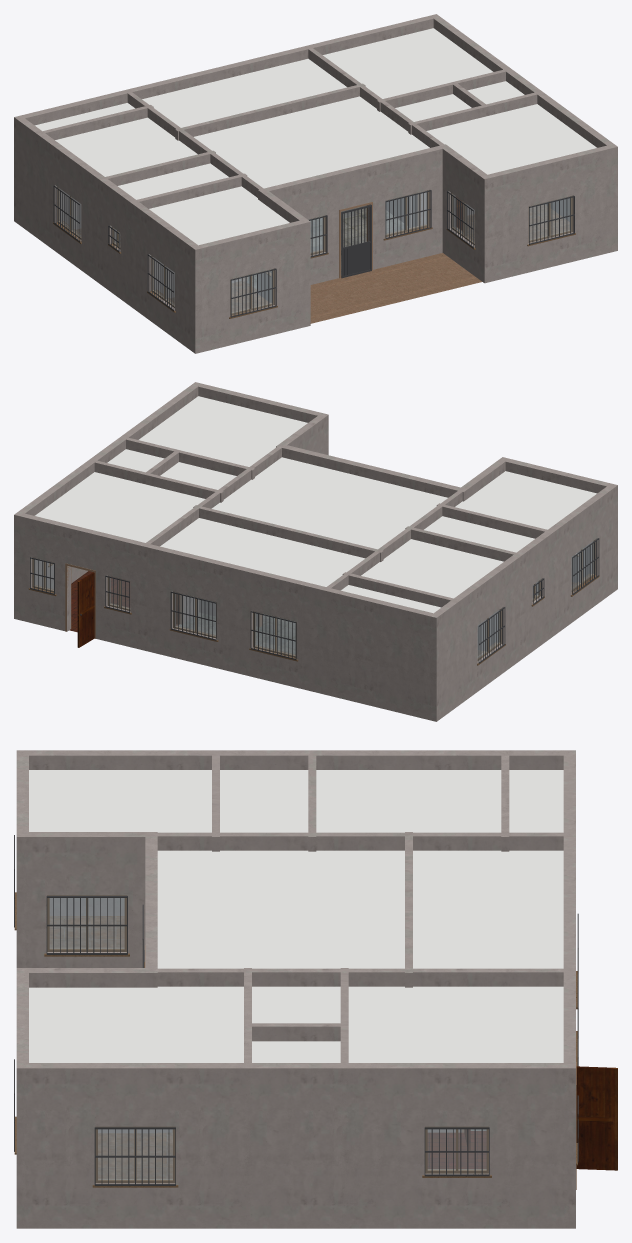
File: bungalow_interior.glb
3 renders of one model, top to bottom at view 1: azimuth 30°, elevation 25°; view 2: azimuth 150°, elevation 25°; view 3: azimuth 270°, elevation 25°, orthographic. The views are drawn at different scales.
Parts seen in each view (by area): view 1: bungalow_interior_static, ceiling_mesh, door_f0_living_veranda_security_mesh; view 2: bungalow_interior_static, ceiling_mesh, door_f0_kitchen_out_mesh; view 3: bungalow_interior_static, ceiling_mesh, door_f0_kitchen_out_mesh.
Part boxes in pixels (left/top/right/bottom): bungalow_interior_static: left=14, top=14, right=617, bottom=353; ceiling_mesh: left=35, top=28, right=596, bottom=245; door_f0_living_veranda_security_mesh: left=341, top=205, right=371, bottom=278; bungalow_interior_static: left=14, top=382, right=617, bottom=721; ceiling_mesh: left=35, top=396, right=596, bottom=613; door_f0_kitchen_out_mesh: left=77, top=572, right=94, bottom=647; bungalow_interior_static: left=14, top=750, right=578, bottom=1228; ceiling_mesh: left=29, top=770, right=563, bottom=1062; door_f0_kitchen_out_mesh: left=576, top=1066, right=617, bottom=1170.
Bounding box in the file's own units: 14.13 × 3.3 × 11.26.
Materials: 14 (9 with a texture image).
